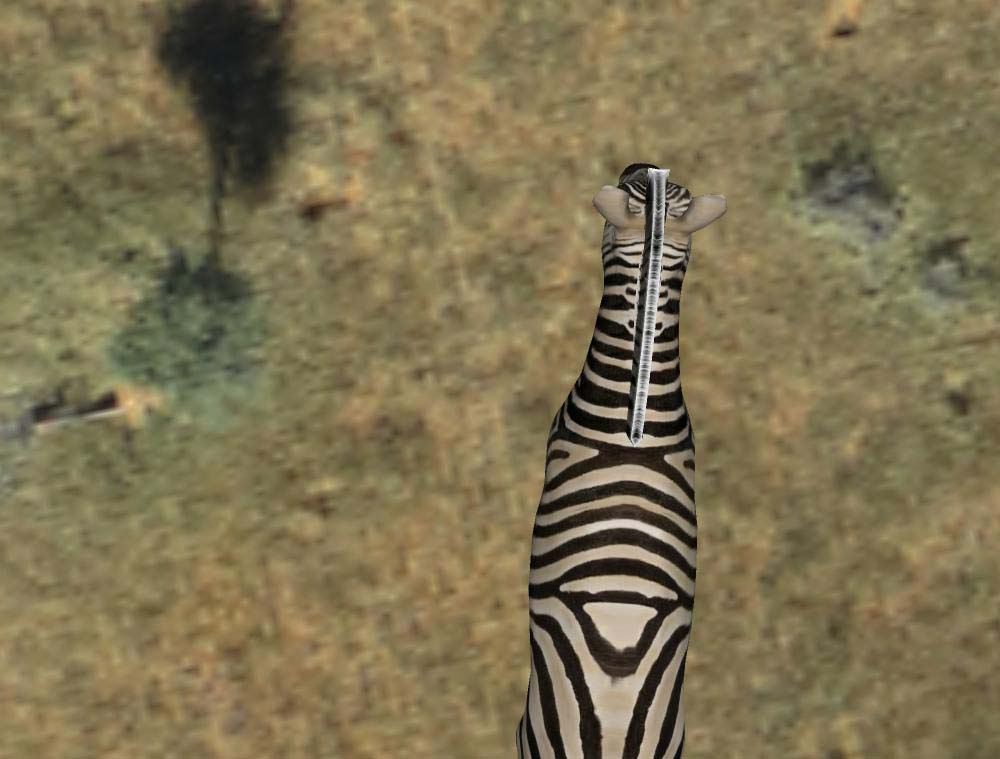zebra: (512, 151, 731, 759)
